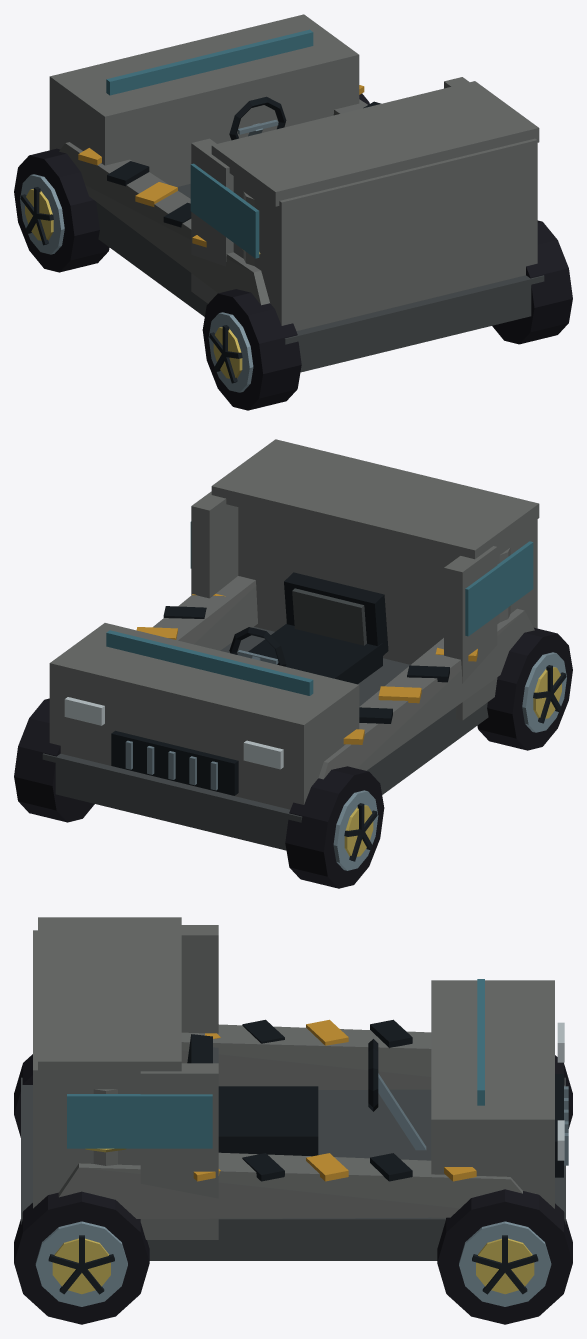
The model's file is kart.glb.
The picture shows the model from 3 angles, top to bottom: view 1: azimuth 30°, elevation 25°; view 2: azimuth 150°, elevation 25°; view 3: azimuth 270°, elevation 25°; orthographic projection. The views are drawn at different scales.
Parts seen in each view (by area): view 1: identity-van-van-utility-body, wheel-rear-left, wheel-front-left, wheel-rear-right, identity-van-motif-hazard-stripes, identity-van-driver-cockpit; view 2: identity-van-van-utility-body, identity-van-driver-cockpit, wheel-front-left, wheel-rear-left, wheel-front-right, identity-van-motif-hazard-stripes; view 3: identity-van-van-utility-body, wheel-front-right, wheel-rear-right, identity-van-driver-cockpit, identity-van-motif-hazard-stripes, wheel-rear-left, identity-van-motif-tanks.
Part boxes in pixels (left/top/right/bottom): identity-van-van-utility-body: left=49, top=14, right=544, bottom=372; wheel-rear-left: left=202, top=289, right=301, bottom=410; wheel-front-left: left=14, top=148, right=109, bottom=272; wheel-rear-right: left=492, top=220, right=572, bottom=344; identity-van-motif-hazard-stripes: left=78, top=85, right=381, bottom=247; identity-van-driver-cockpit: left=229, top=96, right=286, bottom=140; identity-van-van-utility-body: left=42, top=439, right=539, bottom=850; identity-van-driver-cockpit: left=229, top=572, right=388, bottom=684; wheel-front-left: left=285, top=766, right=384, bottom=888; wheel-rear-left: left=477, top=627, right=572, bottom=750; wheel-front-right: left=14, top=698, right=94, bottom=822; identity-van-motif-hazard-stripes: left=136, top=594, right=477, bottom=744; identity-van-van-utility-body: left=21, top=917, right=568, bottom=1260; wheel-front-right: left=437, top=1189, right=572, bottom=1324; wheel-rear-right: left=14, top=1191, right=149, bottom=1324; identity-van-driver-cockpit: left=187, top=1034, right=426, bottom=1156; identity-van-motif-hazard-stripes: left=193, top=1019, right=476, bottom=1181; wheel-rear-left: left=14, top=1054, right=32, bottom=1137; identity-van-motif-tanks: left=85, top=1089, right=126, bottom=1165.
Size of the model in its own units: 2.13 by 1.38 by 2.8.
